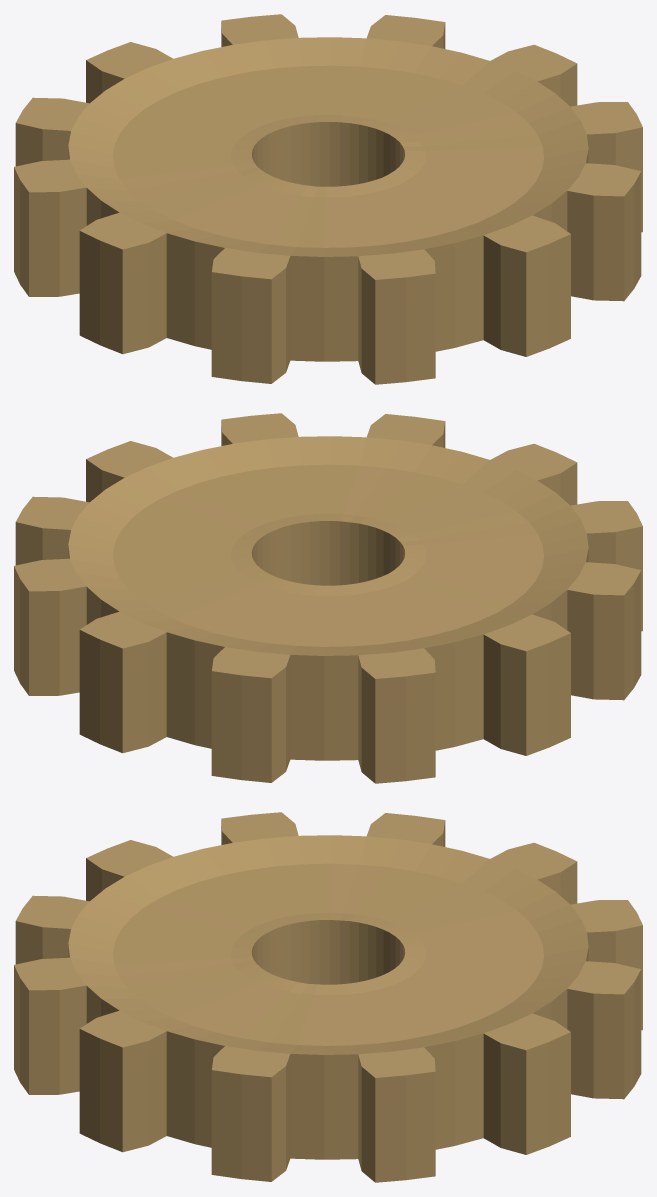
The model's file is Rouage1.fbx.
3 views of the same model, one above another, from view 1: azimuth 30°, elevation 25°; view 2: azimuth 150°, elevation 25°; view 3: azimuth 270°, elevation 25° (orthographic).
Parts seen in each view (by area): view 1: Gear.144; view 2: Gear.144; view 3: Gear.144.
Boxes of the visible parts, left/top/right/bottom form: Gear.144: left=14, top=14, right=642, bottom=384; Gear.144: left=14, top=413, right=642, bottom=783; Gear.144: left=14, top=812, right=642, bottom=1182.
Size of the model in its own units: 44155 by 10800 by 44155.
